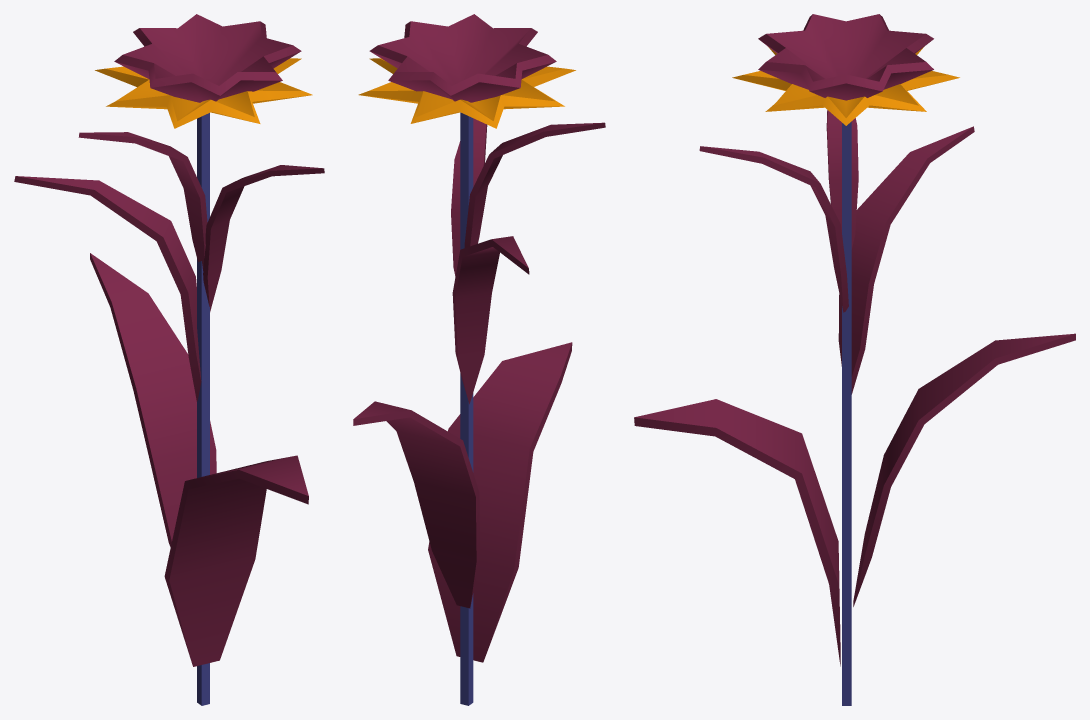
Rendered from flower03_yellow.fbx.
3 views of the same model, side by side, from view 1: azimuth 30°, elevation 25°; view 2: azimuth 150°, elevation 25°; view 3: azimuth 270°, elevation 25° (orthographic).
Visible parts, largest first — view 1: flower03_yellow; view 2: flower03_yellow; view 3: flower03_yellow.
Part boxes in pixels (bbox=[...]): flower03_yellow: bbox=[14, 14, 324, 705]; flower03_yellow: bbox=[353, 14, 605, 705]; flower03_yellow: bbox=[634, 14, 1075, 705].
Bounding box in the file's own units: 2.81 × 7.6 × 4.63.
